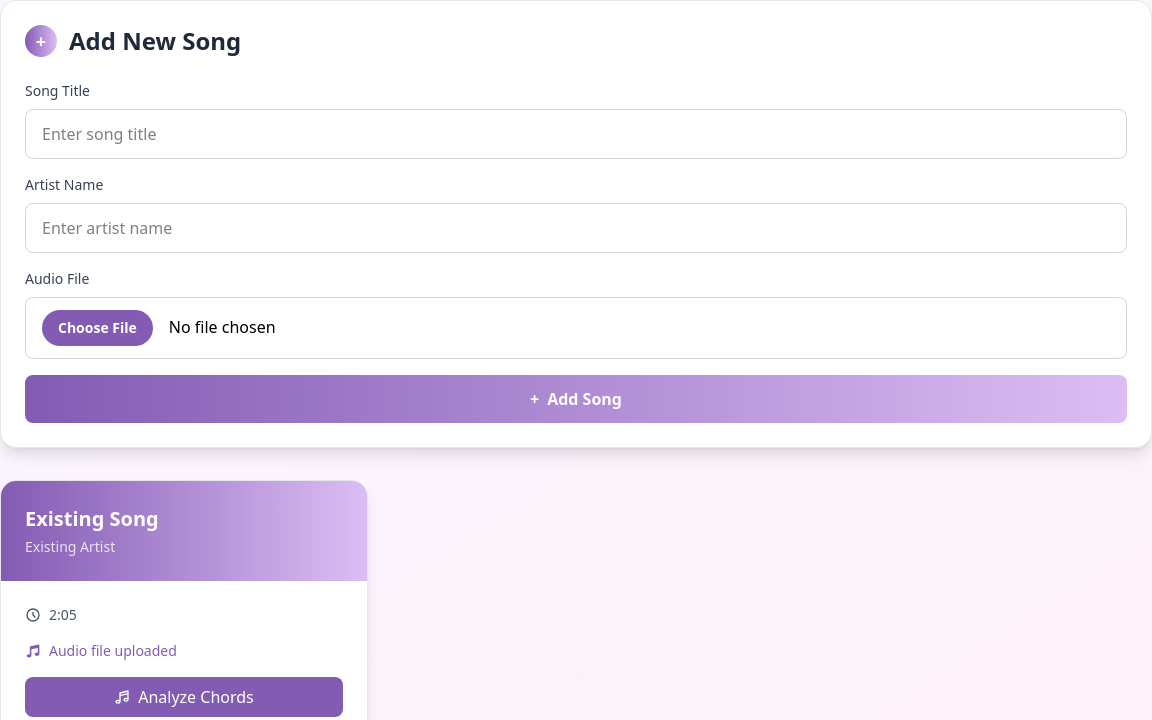
Test: SongListPage › displays an error when song analysis fails
Click the button "Analyze Chords": {"x": 184, "y": 697} [25,677,343,717]
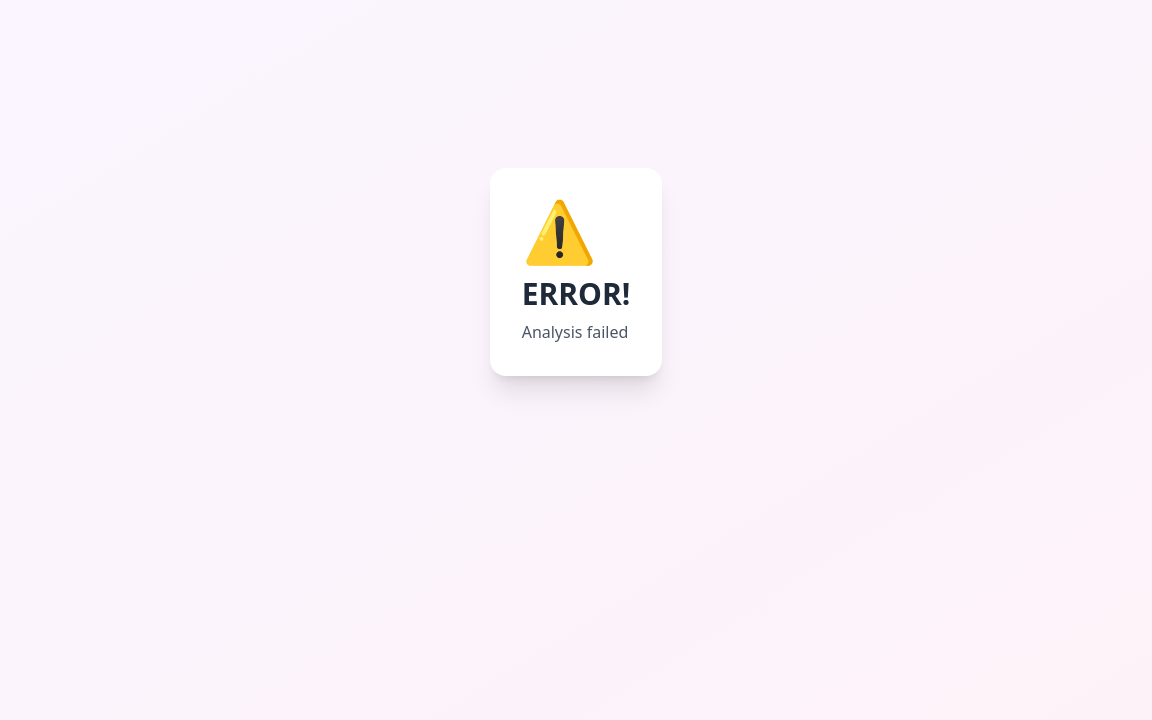
Now the text "Analysis failed" is shown, box [522,320,630,344]
